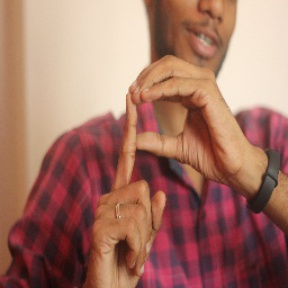P: (91, 53, 241, 250)
